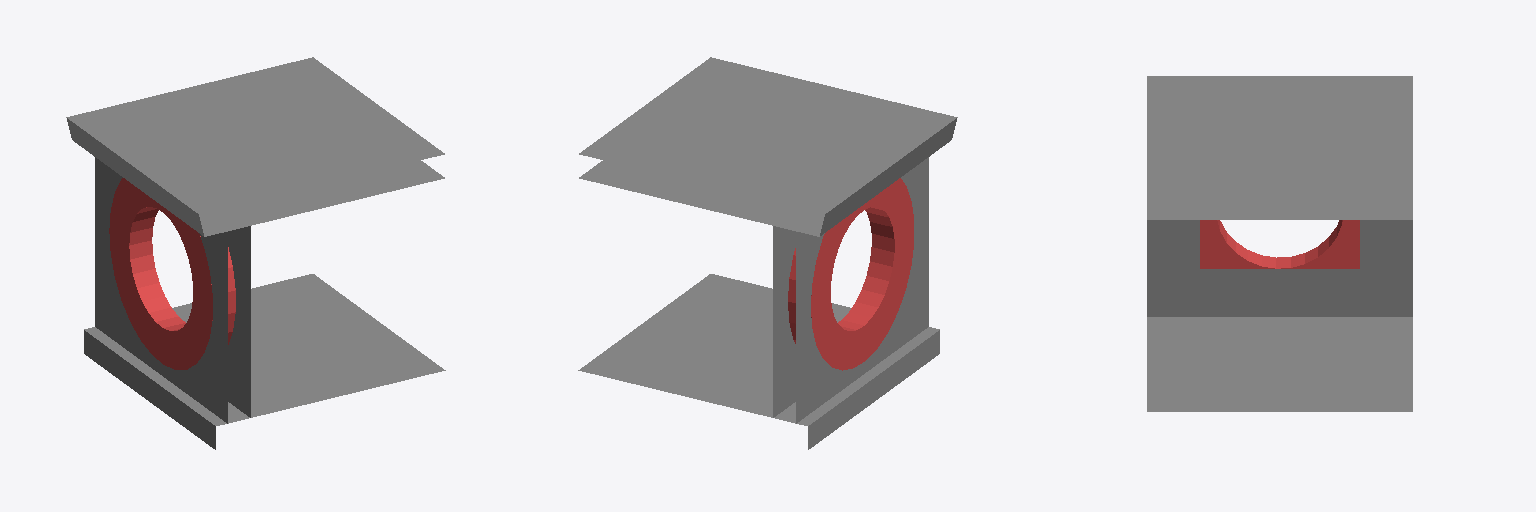
3 views of the same model, side by side, from view 1: azimuth 30°, elevation 25°; view 2: azimuth 150°, elevation 25°; view 3: azimuth 270°, elevation 25° (orthographic).
Parts seen in each view (by area): view 1: objobjobjRegroup09, Tube001; view 2: objobjobjRegroup09, Tube001; view 3: objobjobjRegroup09, Tube001.
Boxes of the visible parts, box(x1,y1,x2,y2) form: objobjobjRegroup09: box(66, 57, 445, 449); Tube001: box(109, 178, 235, 369); objobjobjRegroup09: box(578, 57, 957, 449); Tube001: box(788, 178, 913, 370); objobjobjRegroup09: box(1147, 76, 1412, 411); Tube001: box(1200, 220, 1359, 268).
Bounding box in the file's own units: 10.75 × 10 × 10.